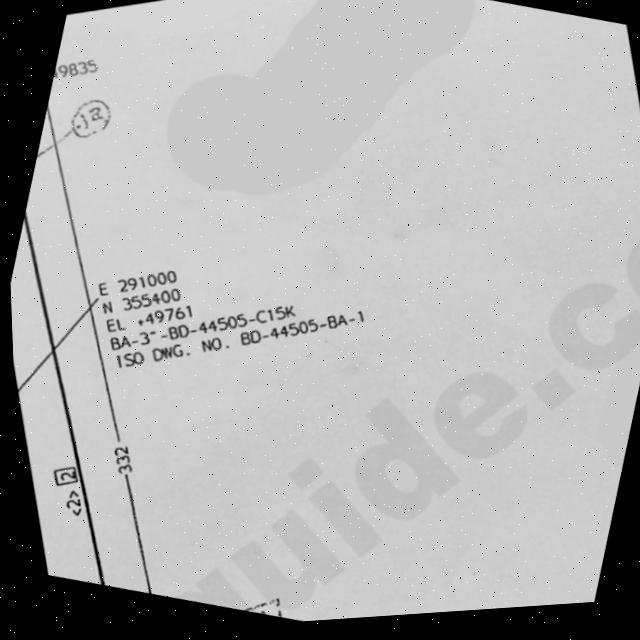Item number: (46, 463, 73, 489)
Measrement: (43, 85, 170, 600)
Pipeline: (20, 196, 110, 588)
other: (88, 209, 379, 384), (51, 54, 100, 83)
